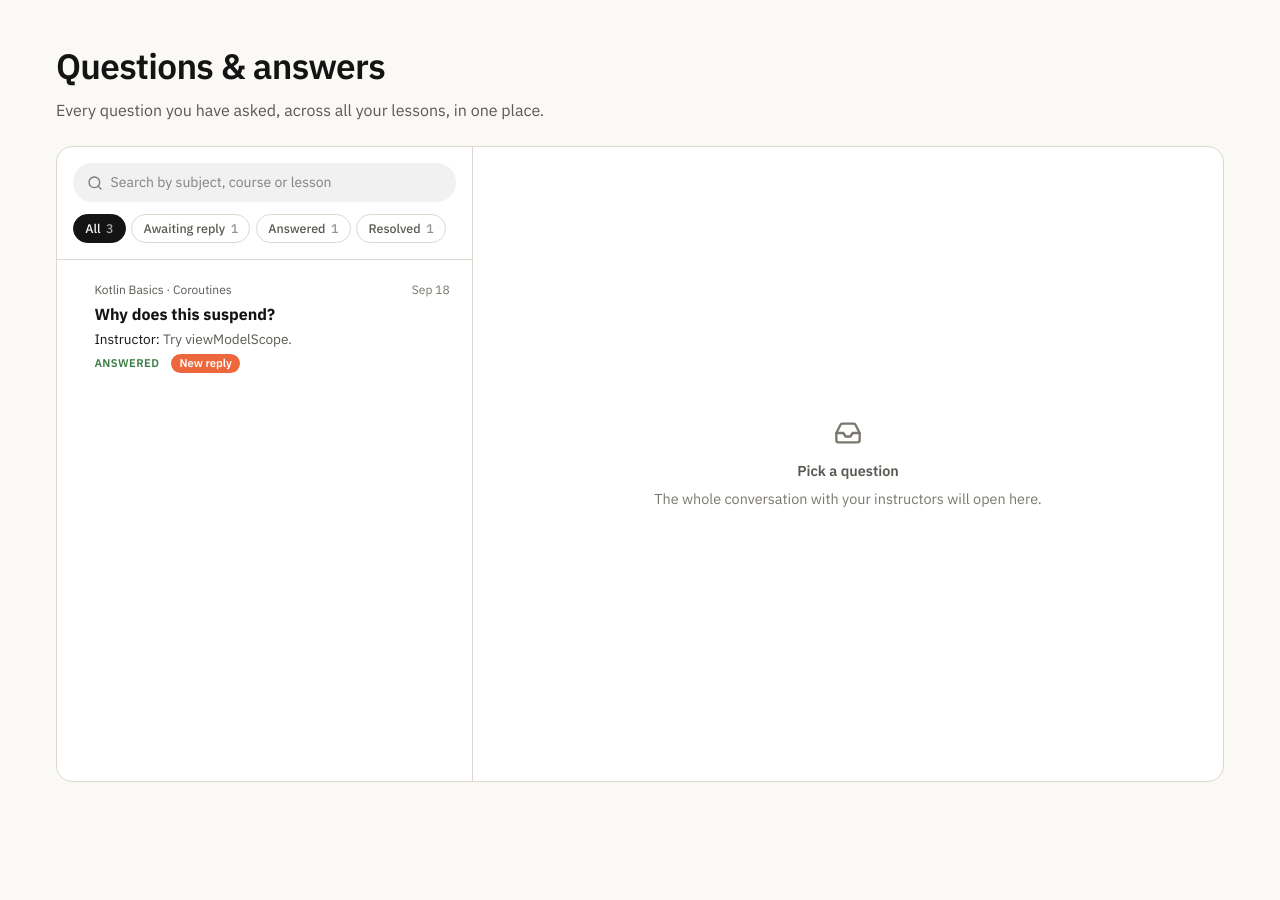
Test: QuestionsView › opens the conversation when a question is picked and records it in the URL
The image size is (1280, 900).
Click the text "Why does this suspend?" at point(185, 314), box [94,304,275,324]
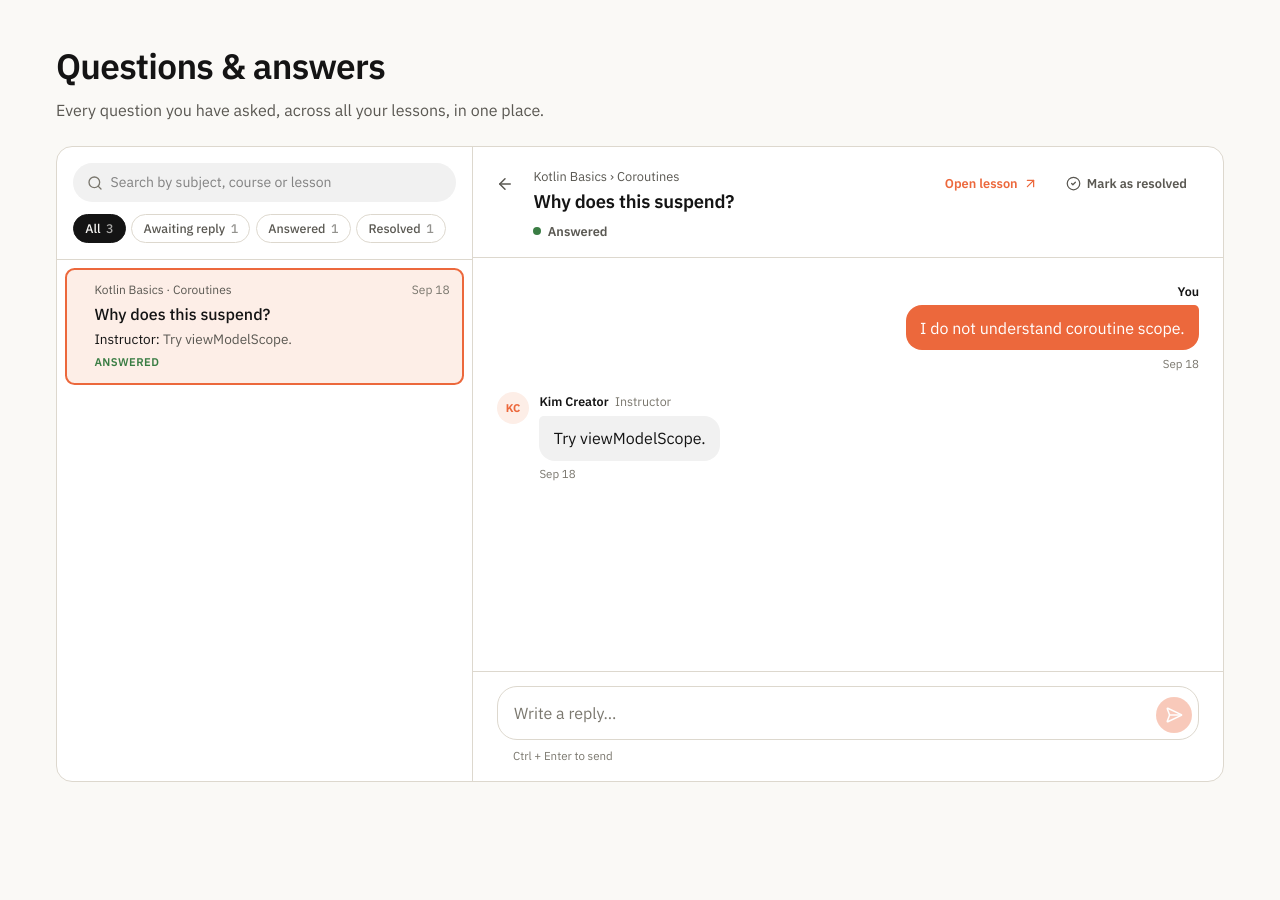
Expected: the text "I do not understand coroutine scope." is shown, [906,305,1199,350]
Expected: the text "New reply" is gone
